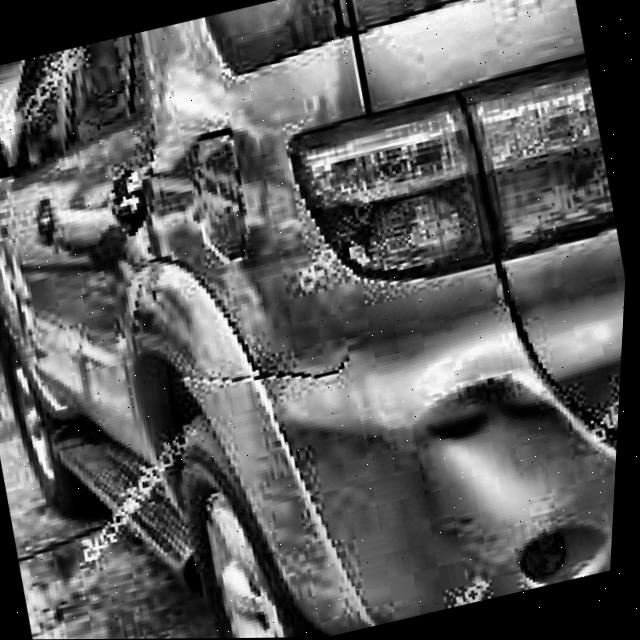bumper_dent: (404, 356, 617, 543), (329, 279, 549, 439)
